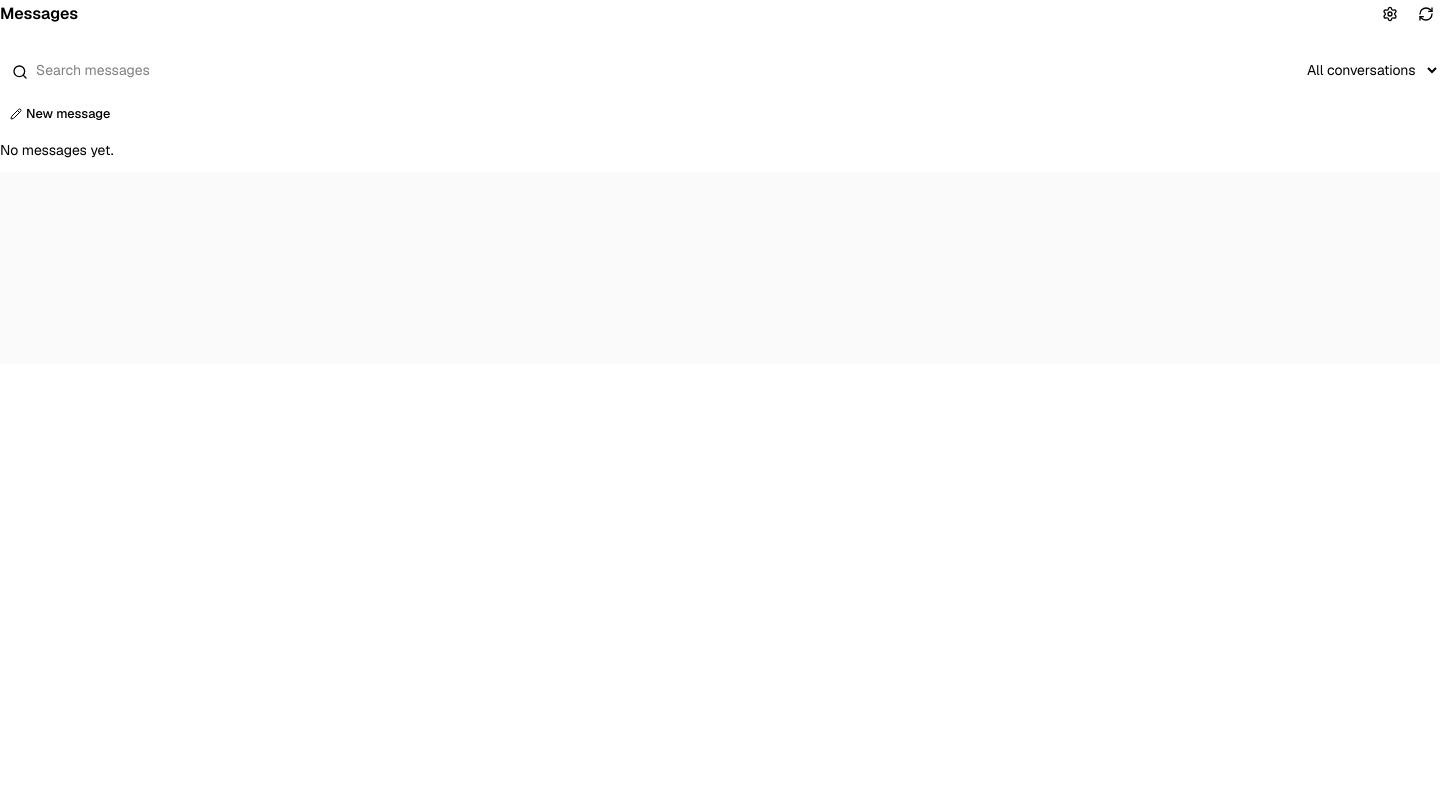
Scenario: reports missing encryption setup without posting or excluding anyone
Click the button "New message".
click(60, 114)  # box [0, 100, 120, 128]
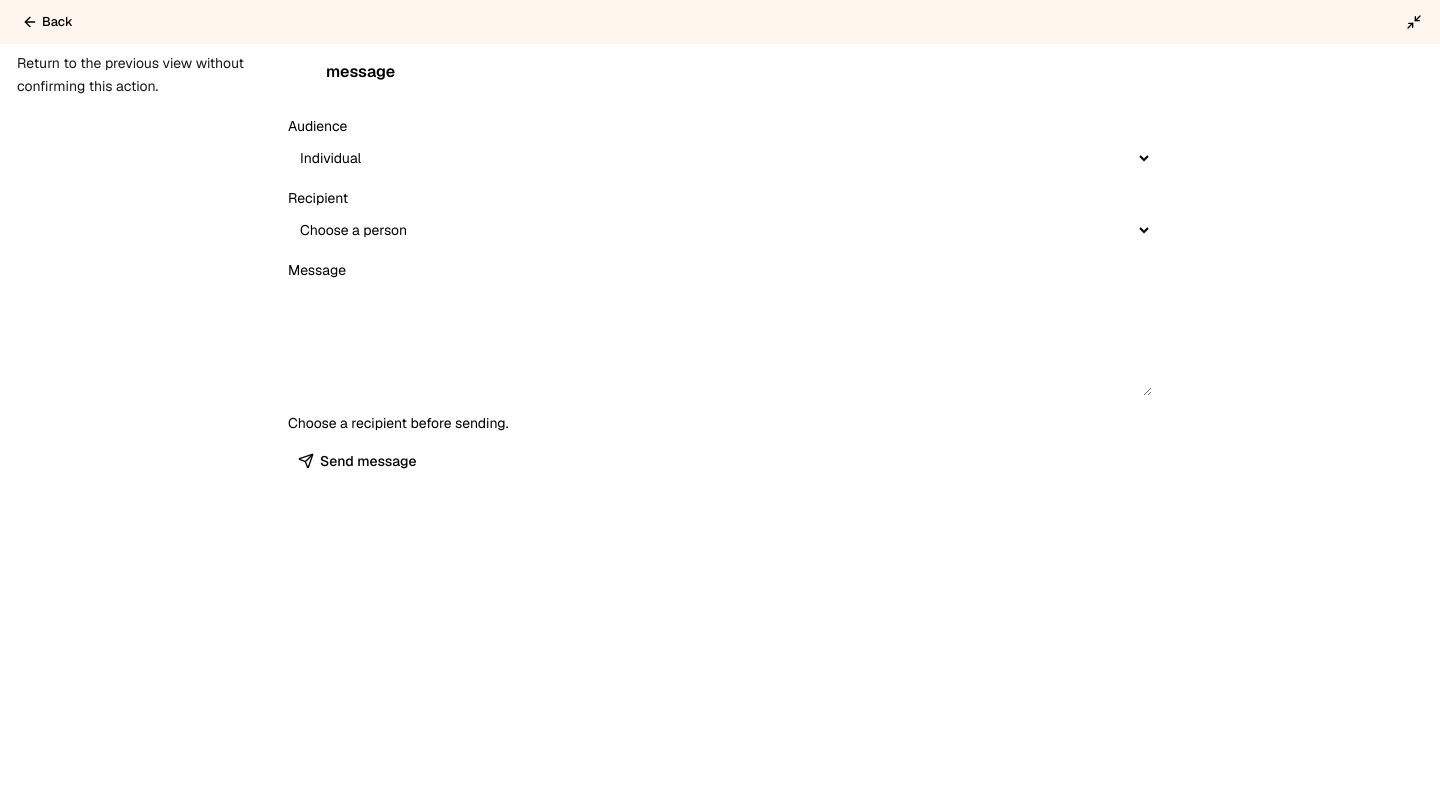
Select "employee@example.com" in the dropdown labelled "Recipient" at (720, 230), box [288, 212, 1152, 248]
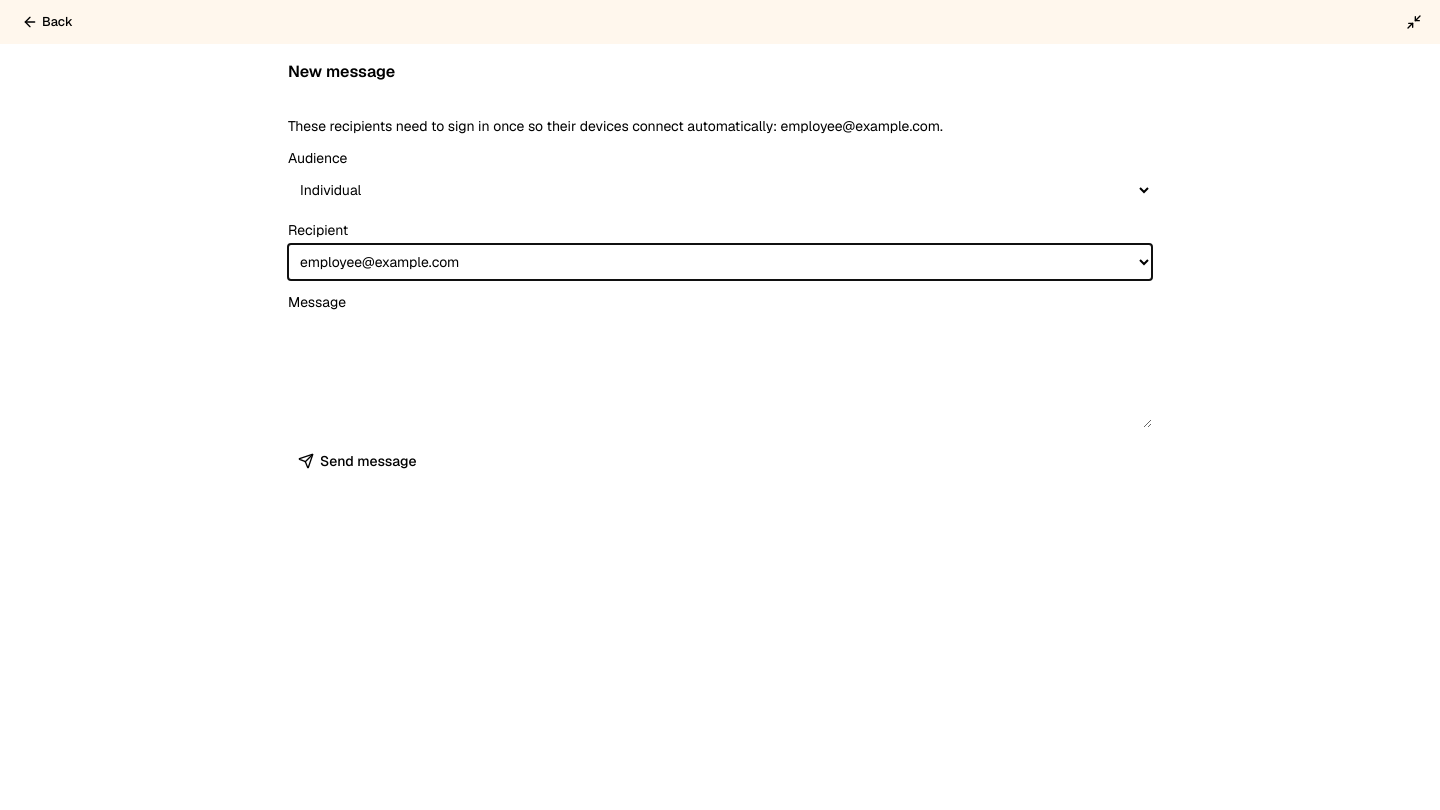
Type "Private hello" into the text box labelled "Message".
click(720, 372); type("Private hello")  # box [288, 316, 1152, 428]
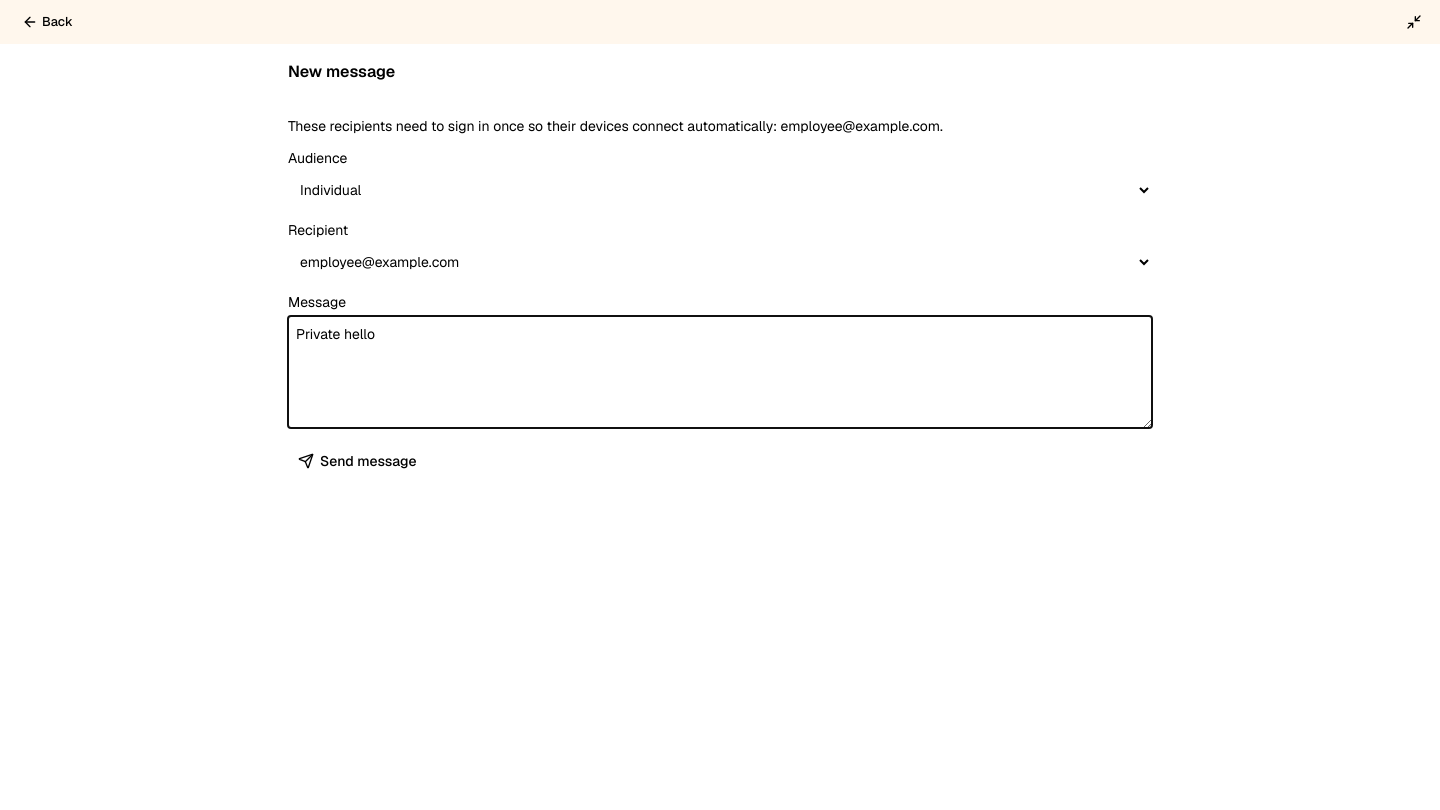
Click the button "Send message".
click(357, 461)  # box [288, 445, 426, 477]
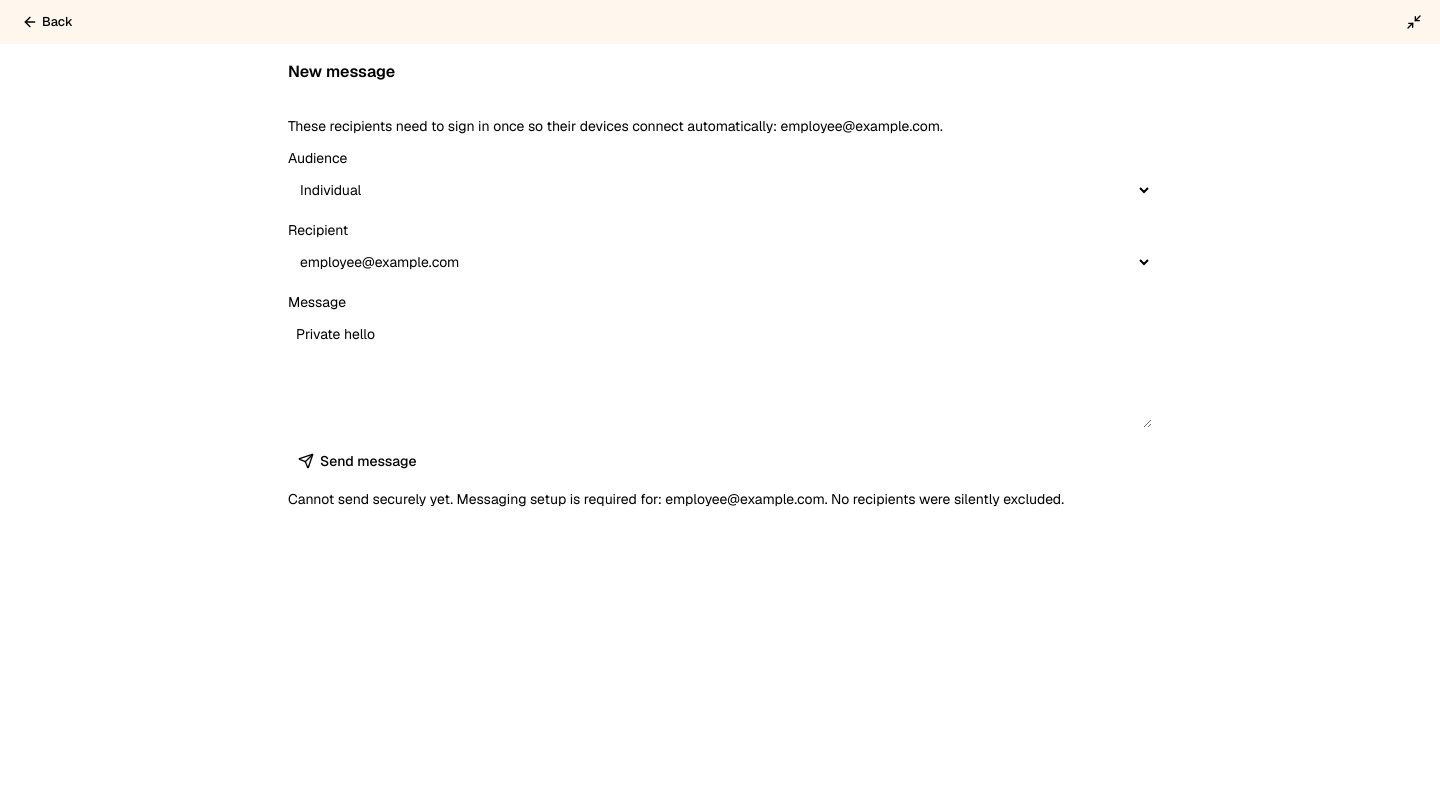
Expected: the 2nd message shows "No recipients were silently excluded", [288, 490, 1064, 508]
